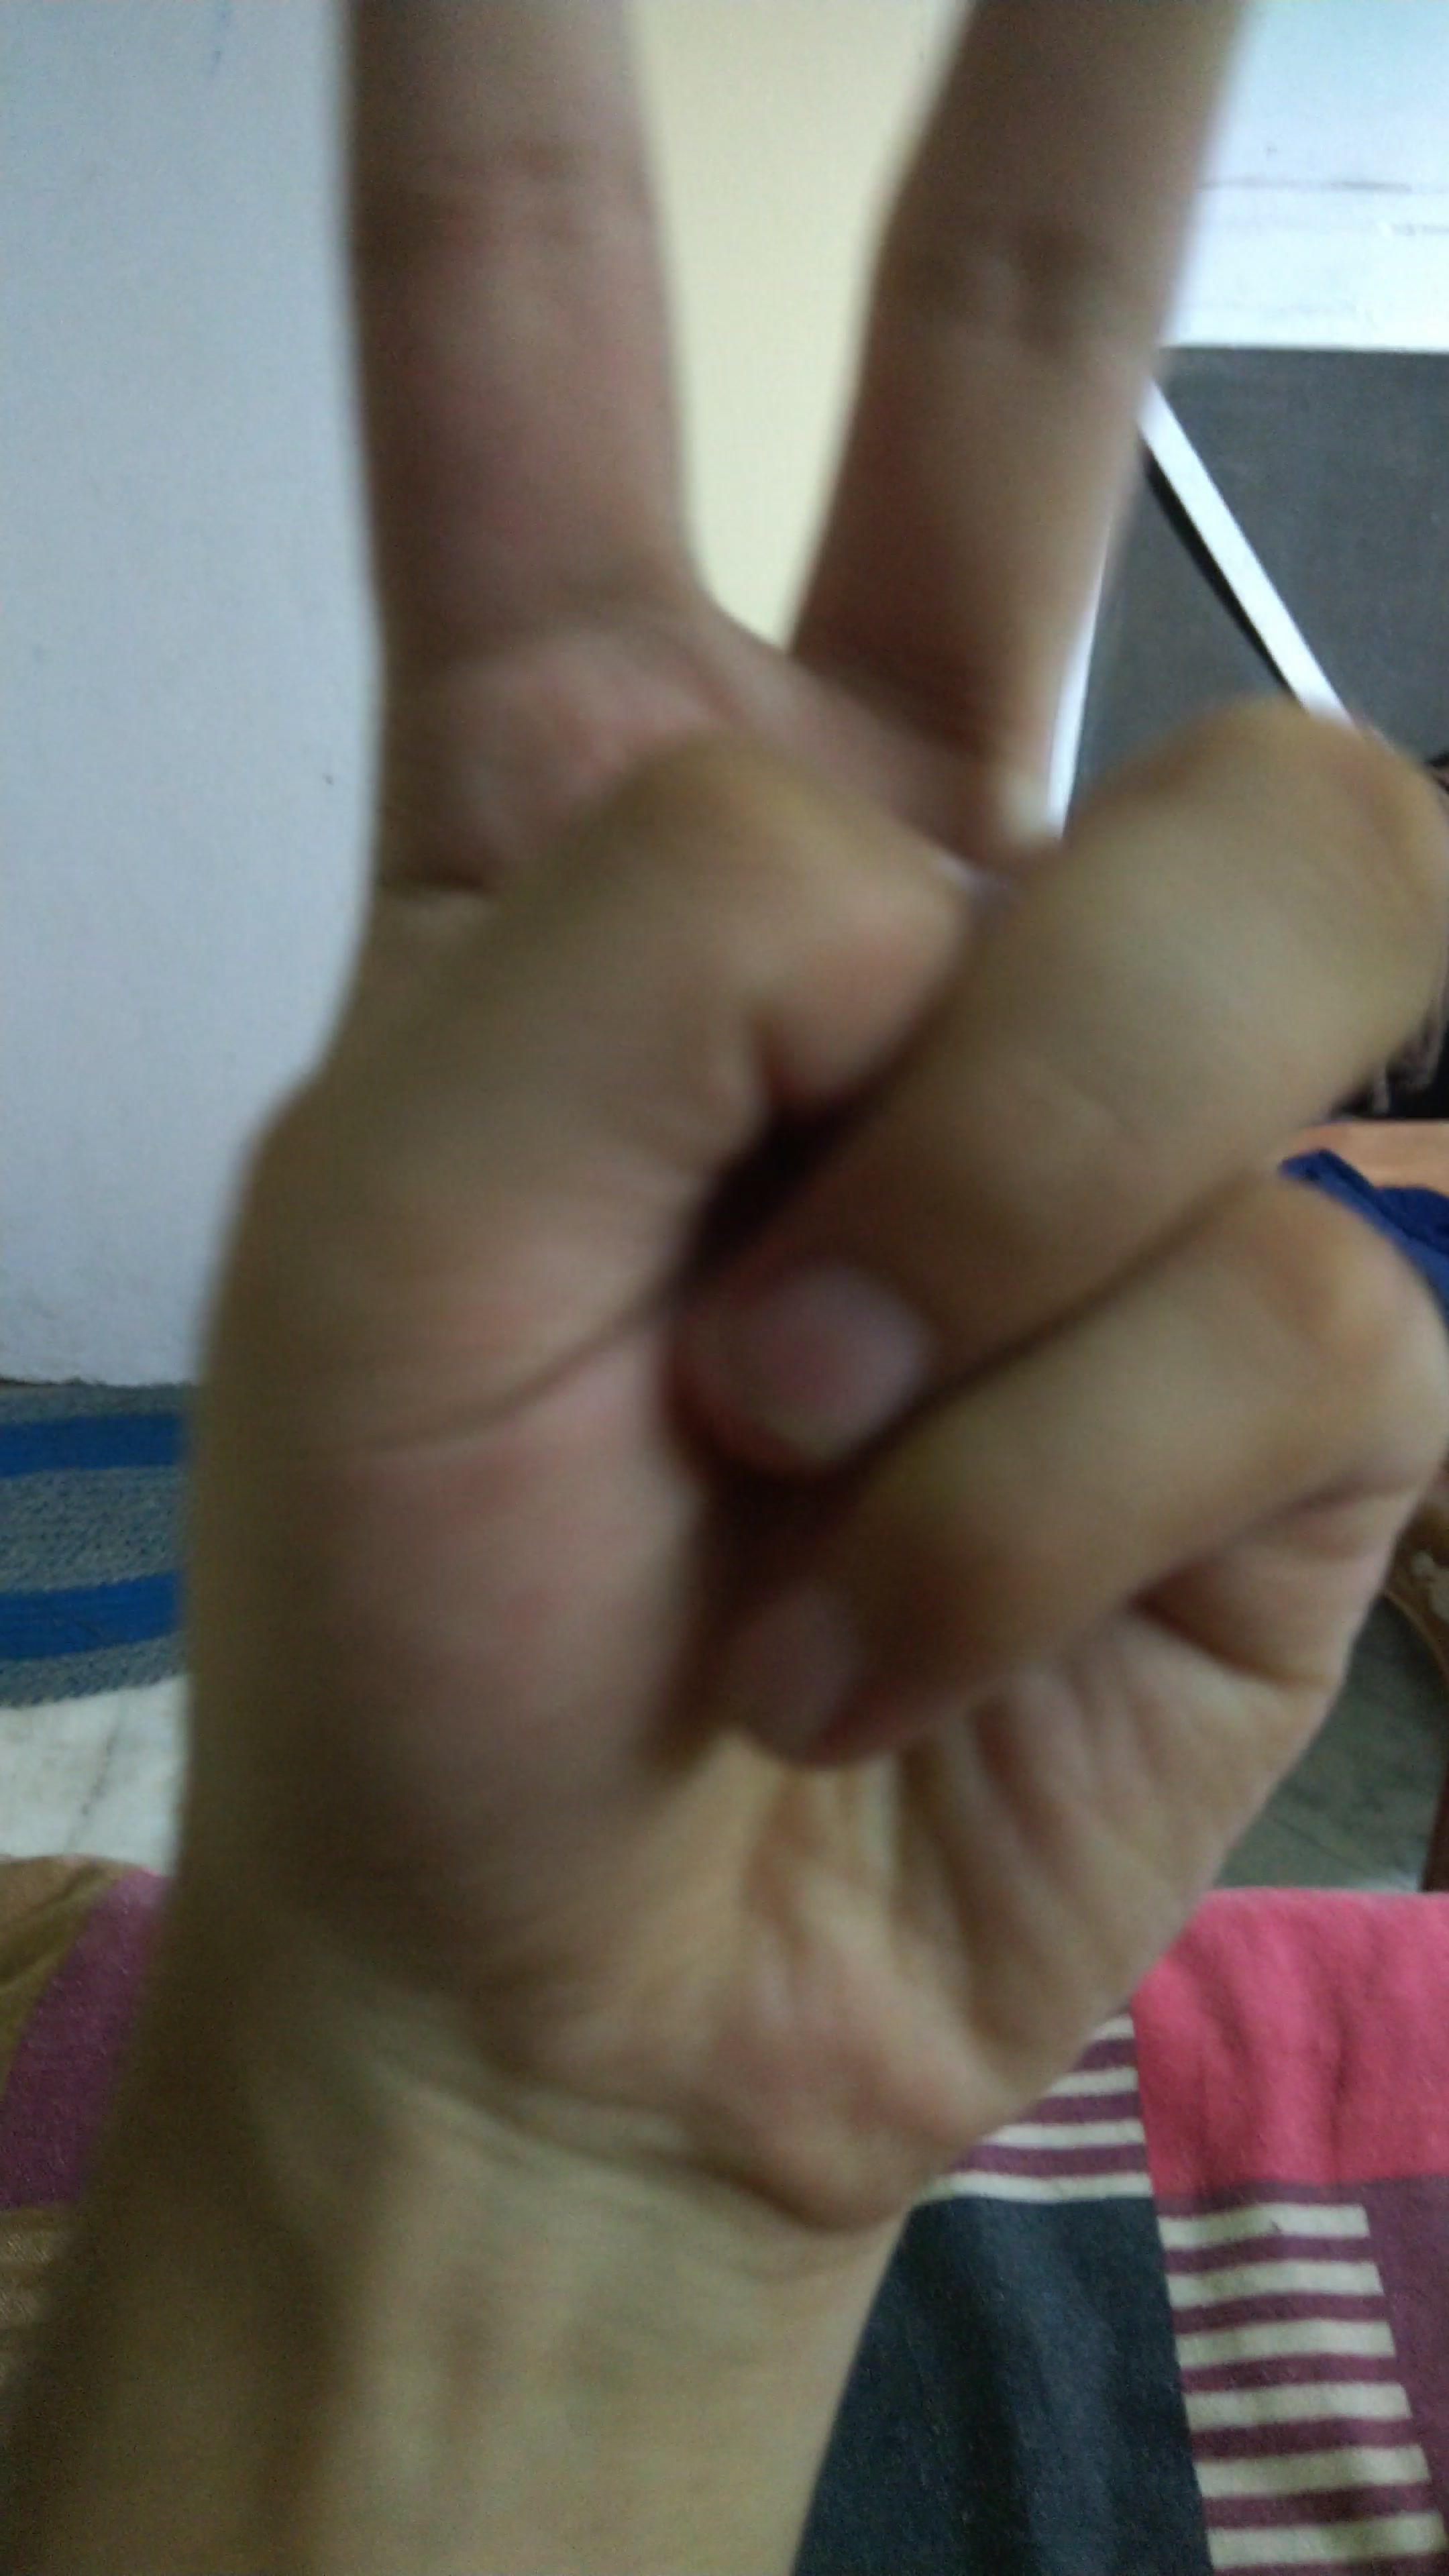hand: (113, 2, 1449, 2250)
